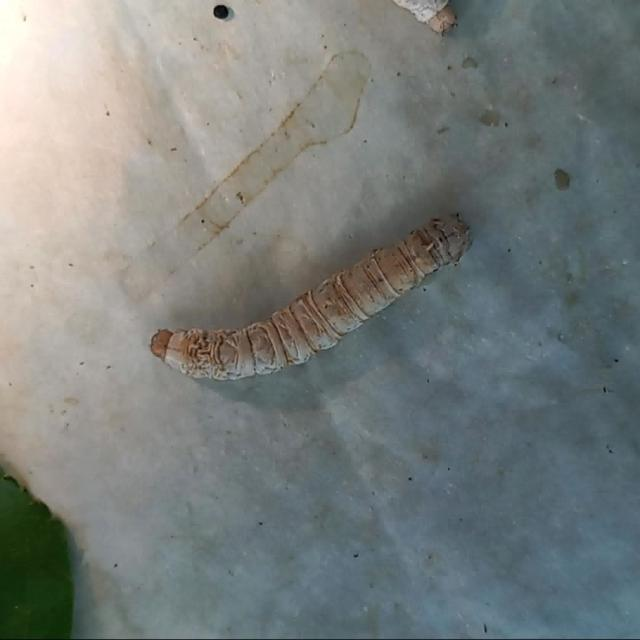Grasserie: (139, 190, 483, 400)
